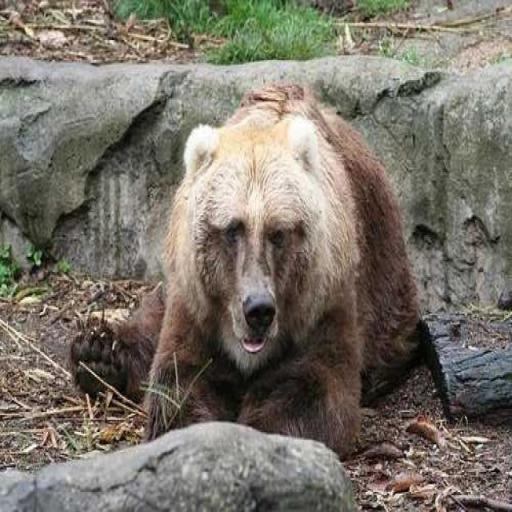Bear: (70, 77, 450, 460)
